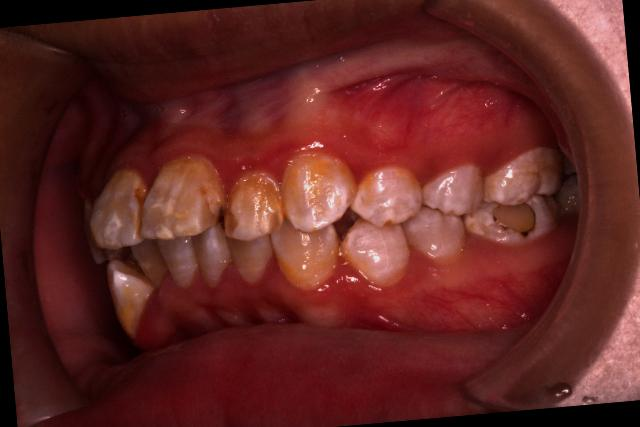canine class II 1/4: (262, 138, 415, 302)
molar class I: (456, 136, 572, 256)
